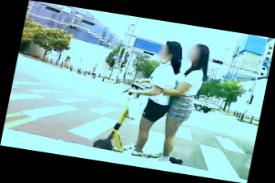multiple: (92, 31, 216, 175)
